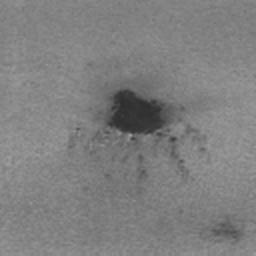Iron sheet ash: (90, 86, 187, 173), (210, 218, 244, 241), (183, 123, 207, 154), (138, 168, 147, 180), (137, 154, 143, 163)
